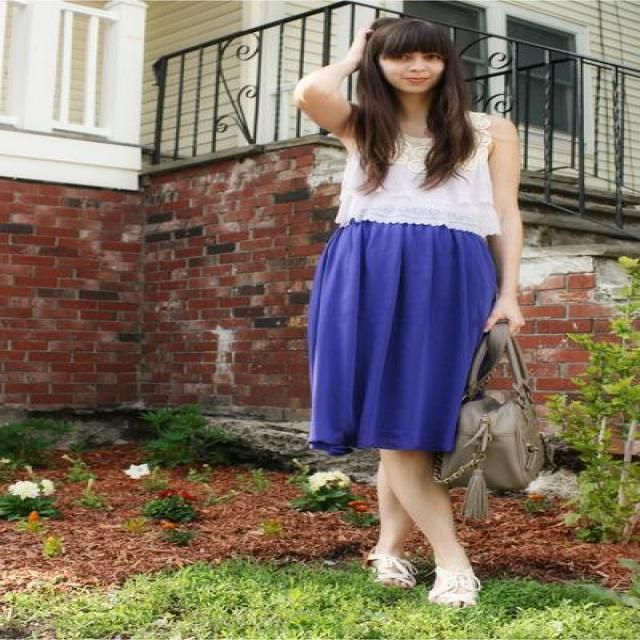bag: (449, 320, 566, 486)
shirt: (333, 142, 499, 237)
shoe: (368, 550, 490, 607)
skirt: (306, 218, 502, 472)
